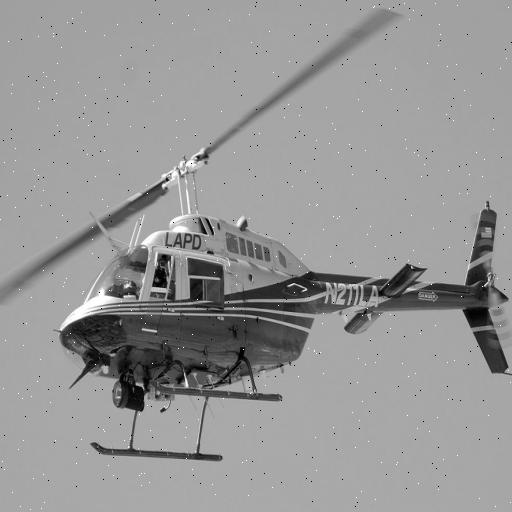helicopter: (1, 9, 512, 462)
